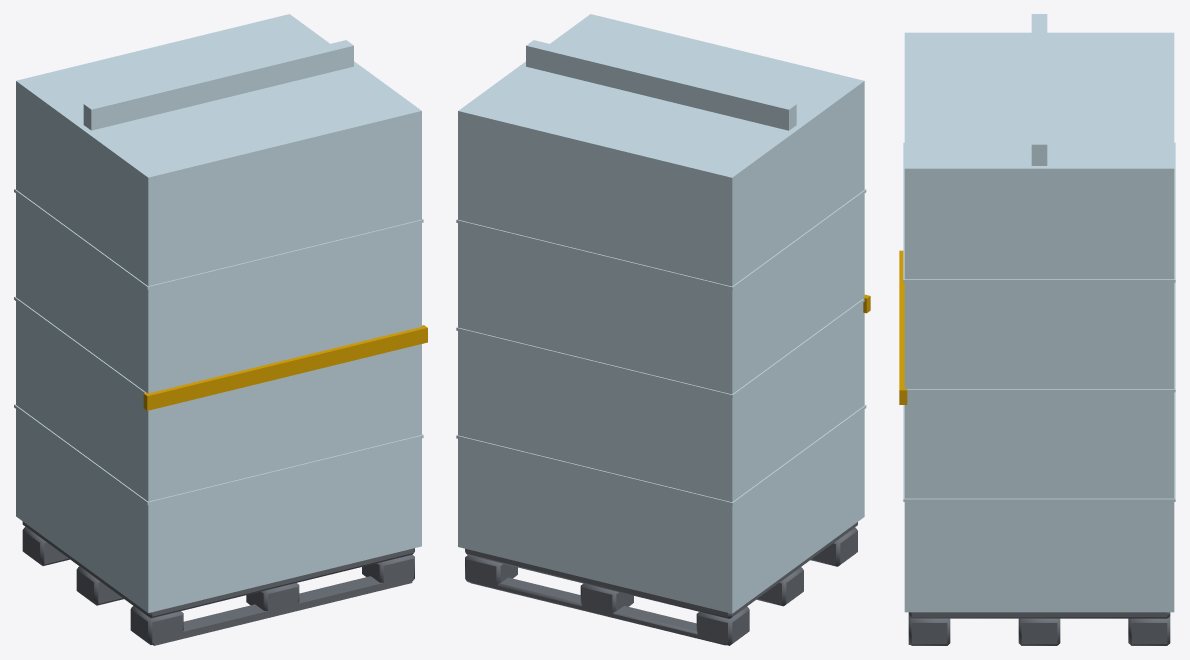
File: pallet_wrapped_tall_mixed.glb
3 renders of one model, left to right at view 1: azimuth 30°, elevation 25°; view 2: azimuth 150°, elevation 25°; view 3: azimuth 270°, elevation 25°, orthographic.
Visible parts, largest first — view 1: pallet_wrapped_tall_mixed; view 2: pallet_wrapped_tall_mixed; view 3: pallet_wrapped_tall_mixed.
Boxes of the visible parts, bbox=[...] form: pallet_wrapped_tall_mixed: bbox=[14, 14, 427, 645]; pallet_wrapped_tall_mixed: bbox=[456, 14, 870, 645]; pallet_wrapped_tall_mixed: bbox=[899, 14, 1175, 645].
Bounding box in the file's own units: 1.26 × 2.12 × 1.06.
